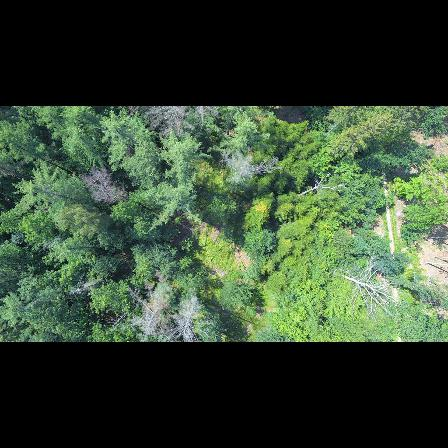Dead: (337, 258, 391, 316), (129, 107, 221, 139), (125, 285, 169, 339), (169, 287, 211, 342), (222, 148, 280, 186), (81, 167, 131, 209), (68, 269, 107, 300)
